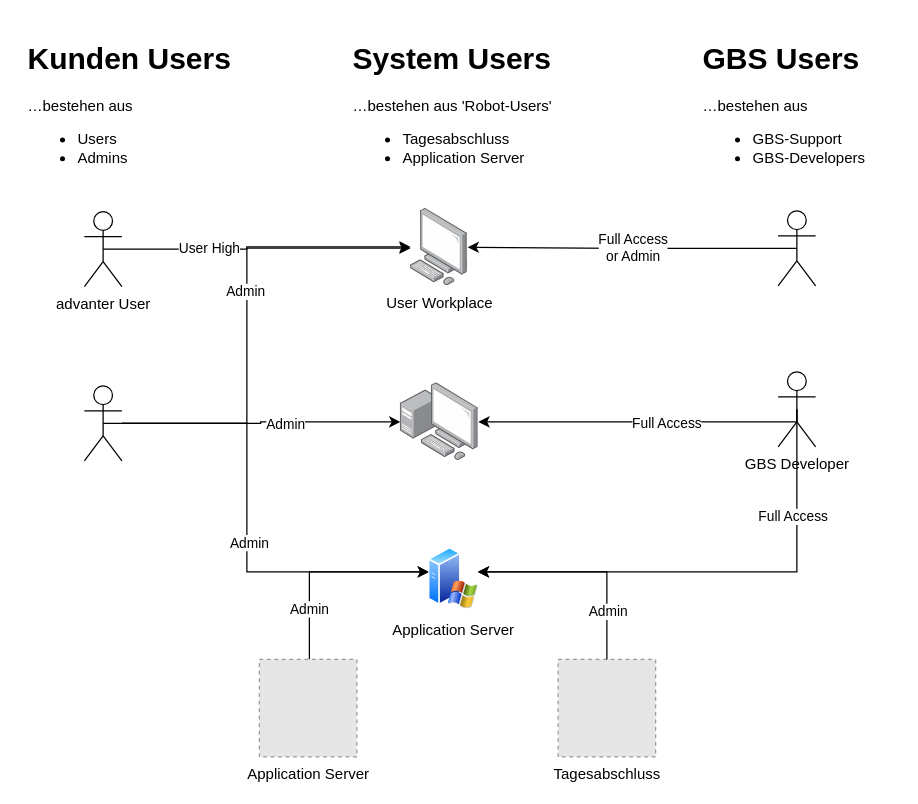
Some shapes in this 918 by 804 pixel diagram are drawn without their labels. Grey dashed boxes stand in for pictures. The centre of each missing label's shape, as x and y in pixels:
"advanter Administrator" goes at point 102,423.
"FileMaker Server" goes at point 439,421.
"GBS Support" goes at point 796,248.
